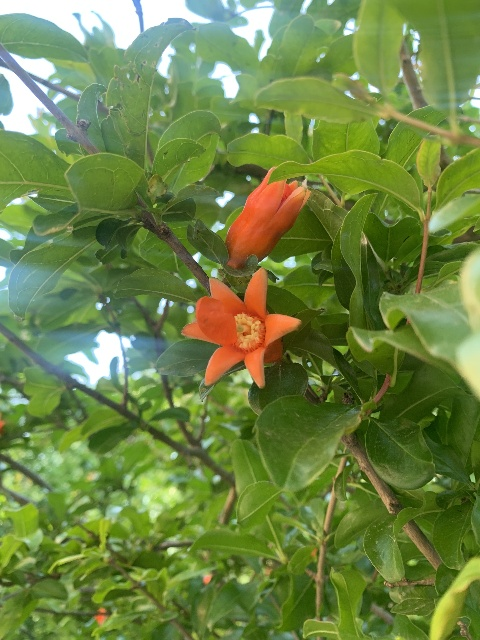flower: (181, 267, 301, 388), (225, 165, 311, 269)
